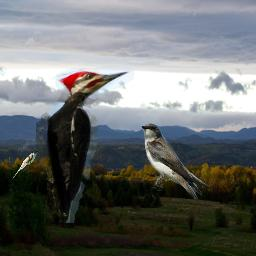Cuckoo: (12, 150, 40, 179)
Swallow: (141, 123, 212, 200)
Woodpecker: (36, 68, 134, 223)
